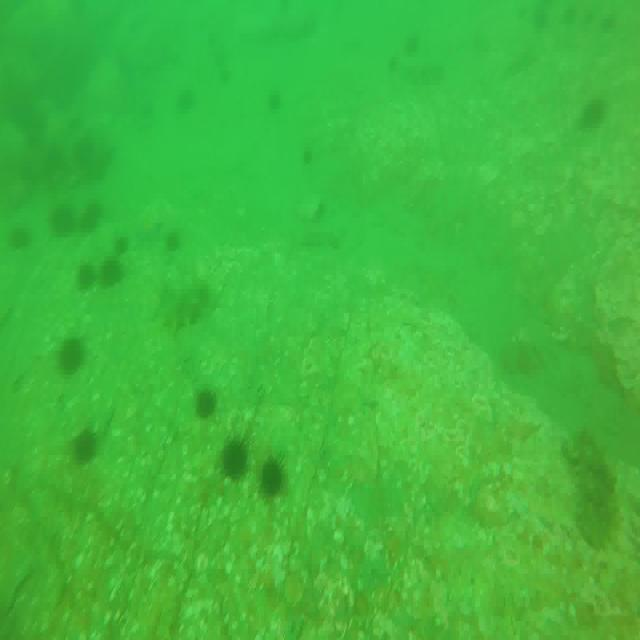echinus: (221, 438, 251, 479), (258, 458, 286, 497), (571, 101, 609, 127), (74, 426, 100, 463), (50, 203, 76, 236), (98, 256, 123, 288), (61, 338, 82, 373), (79, 203, 103, 233), (195, 388, 218, 419), (8, 219, 30, 248), (76, 262, 98, 288), (175, 86, 195, 112), (264, 91, 284, 113), (113, 234, 131, 257)
holothurian: (560, 432, 618, 546), (160, 276, 212, 337)
starfish: (135, 216, 164, 249)
